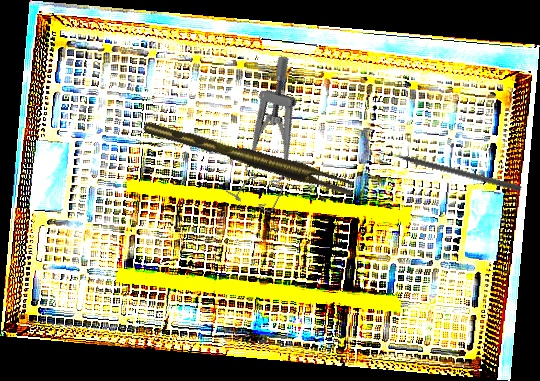Pusher: (376, 145, 523, 193)
Speculum: (213, 53, 336, 218)
Tissue Forceps: (142, 110, 358, 204)
